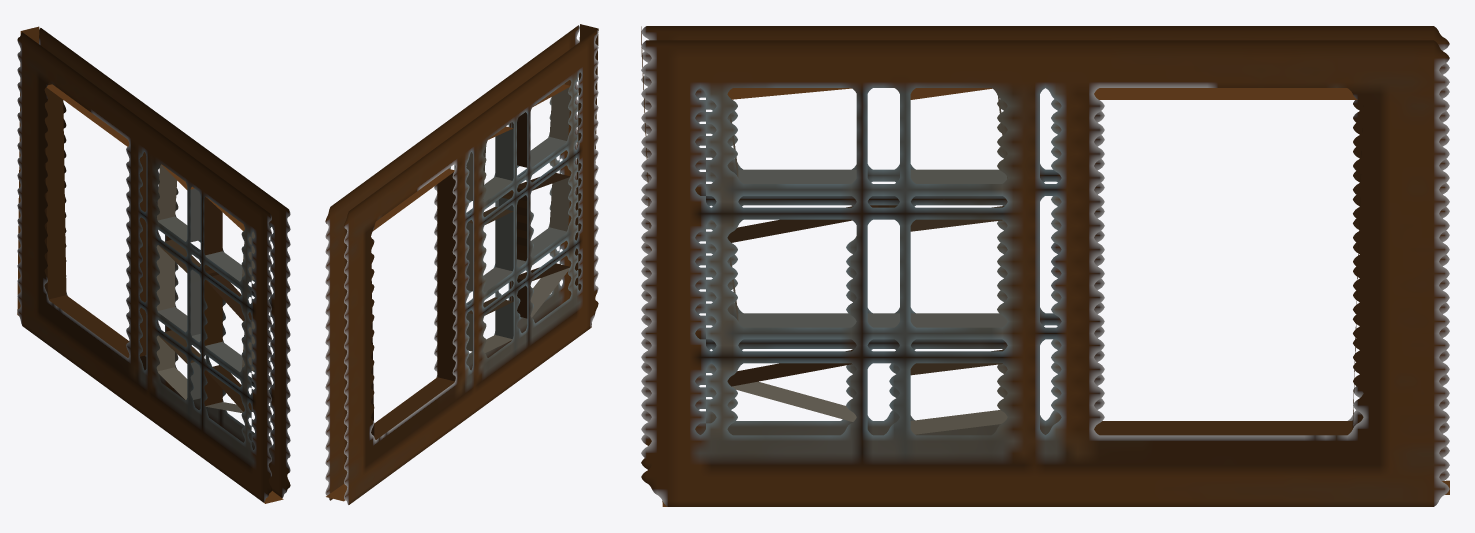
File: pz_native_fixtures_windows_01_18_frame.obj
The picture shows the model from 3 angles, left to right: view 1: azimuth 30°, elevation 25°; view 2: azimuth 150°, elevation 25°; view 3: azimuth 270°, elevation 25°; orthographic projection. The views are drawn at different scales.
Visible parts, largest first — view 1: pz_native_fixtures_windows_01_18_frame; view 2: pz_native_fixtures_windows_01_18_frame; view 3: pz_native_fixtures_windows_01_18_frame.
Part boxes in pixels (x1,y1,x2,y2): pz_native_fixtures_windows_01_18_frame: [17, 26, 290, 503]; pz_native_fixtures_windows_01_18_frame: [325, 24, 598, 504]; pz_native_fixtures_windows_01_18_frame: [641, 26, 1449, 506].
Size of the model in its own units: 0.04 by 0.6406 by 0.9823.
Materials: 1 (1 with a texture image).
